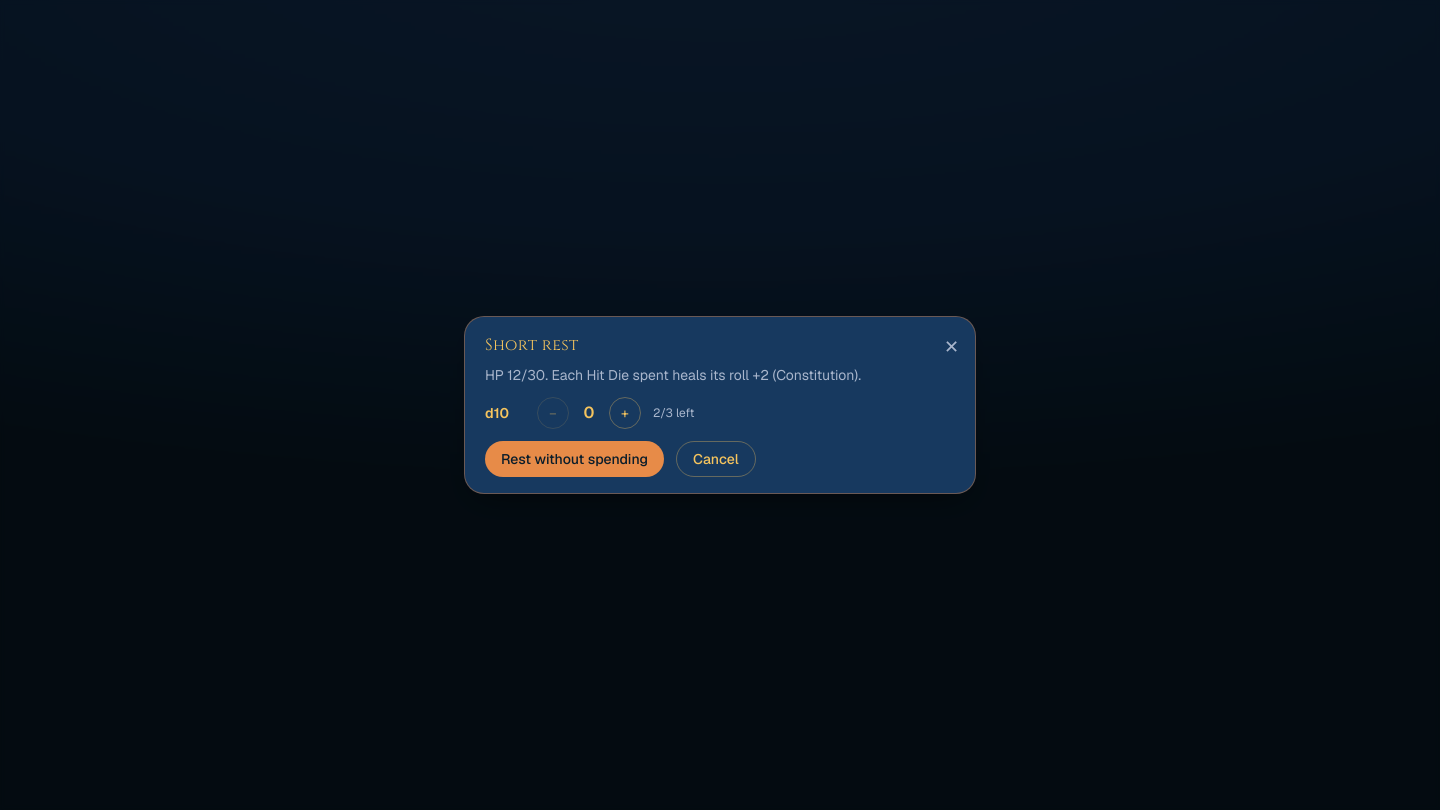
Test case: ShortRestDialog › the stepper counts up to the remaining dice and back down to zero
This screenshot has width=1440, height=810.
Click the button "+".
click(625, 413)  # box [609,397,641,429]
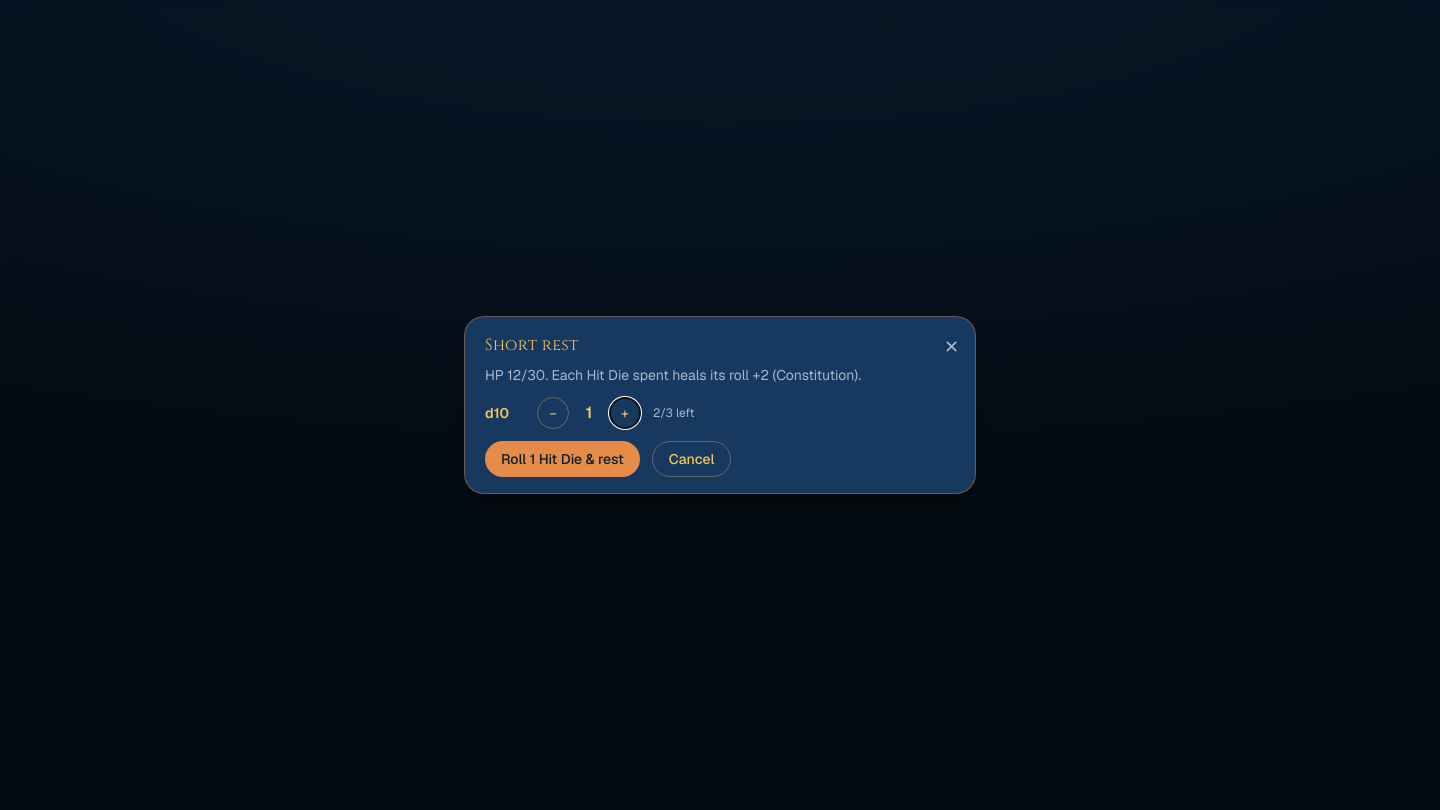
Check: the text "1" is shown, box [586,402,592,423]
Check: the button "Roll 1 Hit Die & rest" is shown, box [485,441,640,477]
Click the button "+".
click(625, 413)  # box [609,397,641,429]
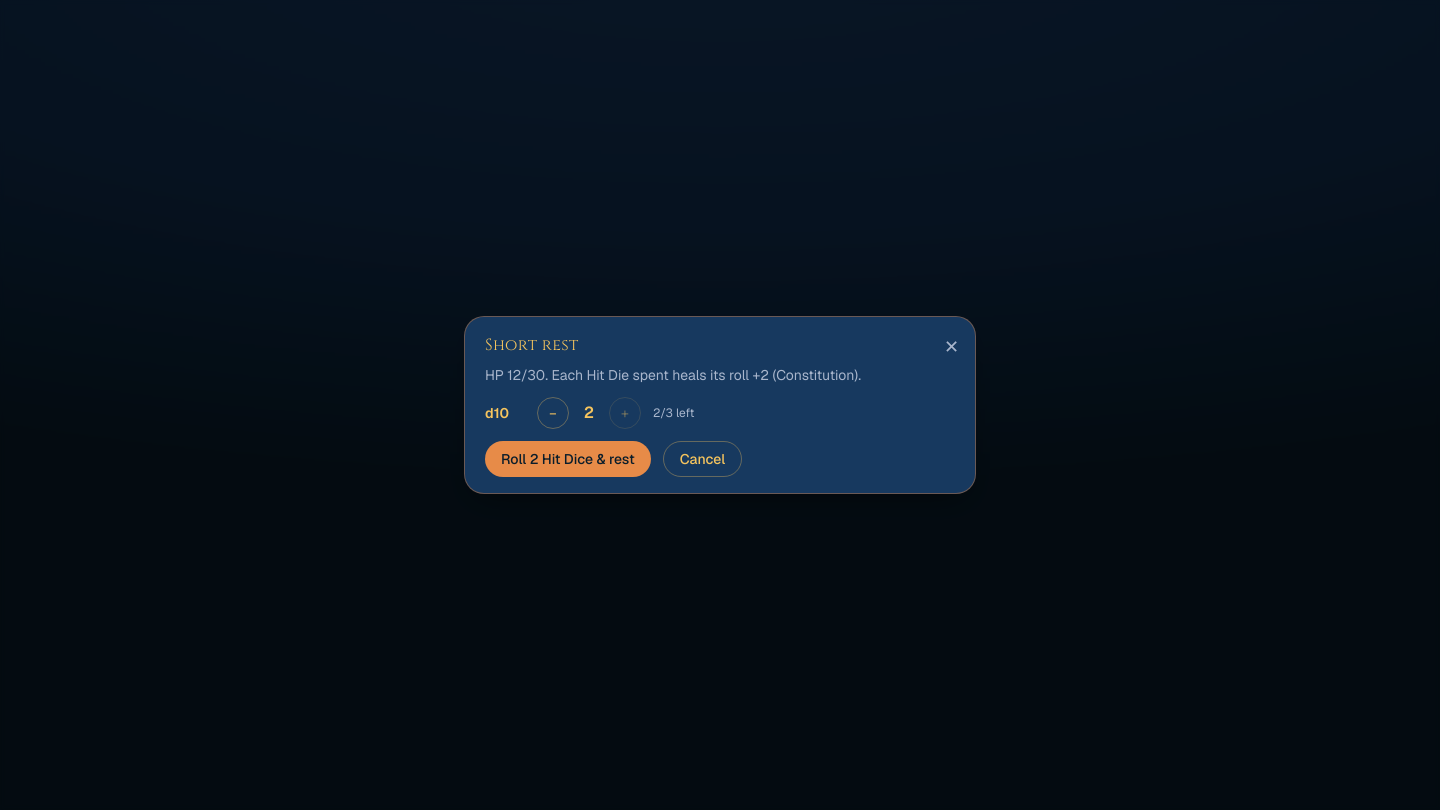
Check: the text "2" is shown, box [584,402,594,423]
Check: the button "Roll 2 Hit Dice & rest" is shown, box [485,441,651,477]
Click the button "−".
click(553, 413)  # box [537,397,569,429]
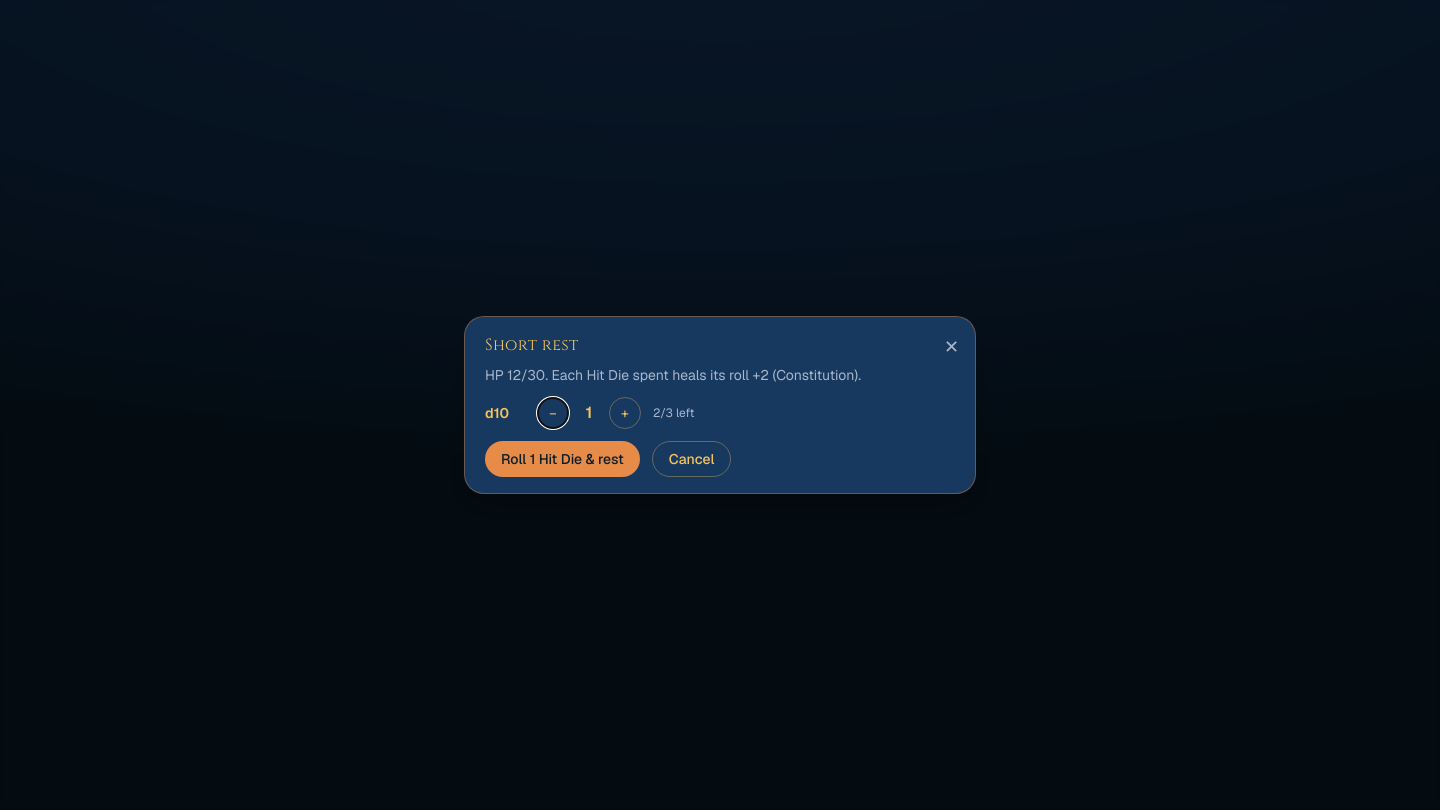
Click the button "−".
click(553, 413)  # box [537,397,569,429]
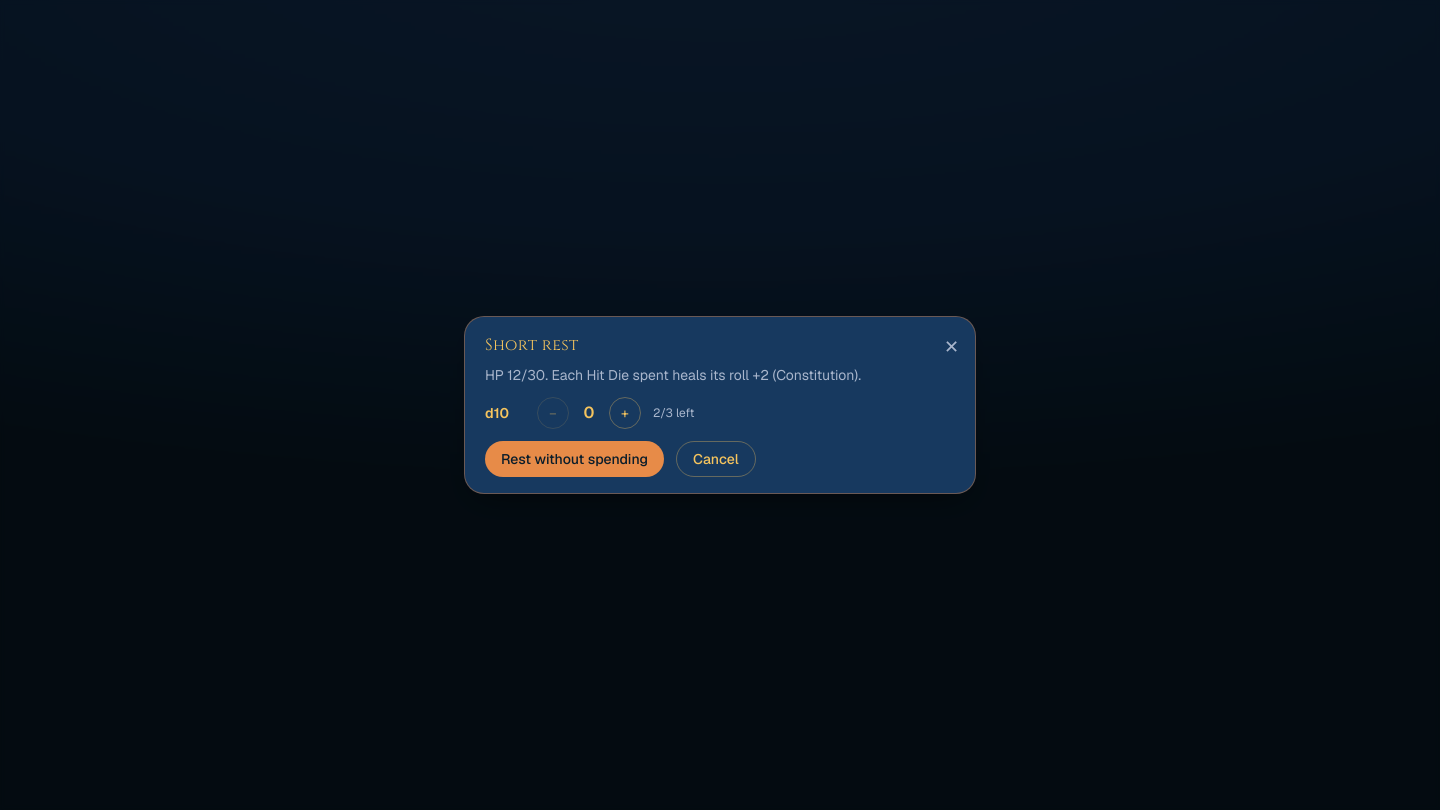
Check: the text "0" is shown, box [584,402,594,423]
Check: the button "Rest without spending" is shown, box [485,441,664,477]
